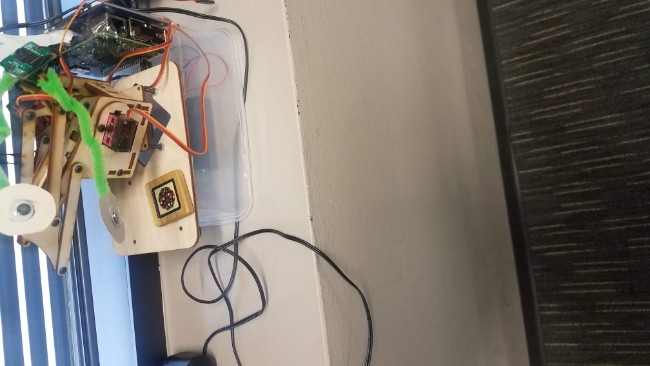cookie: (146, 176, 187, 220)
